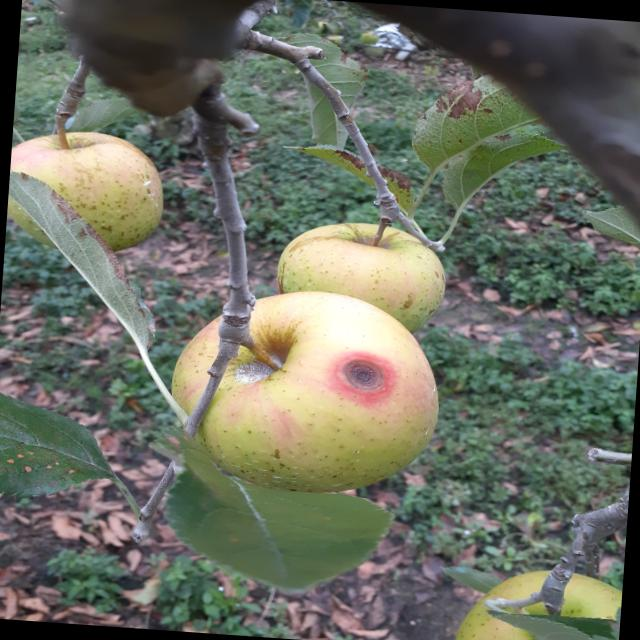rotten: (155, 281, 462, 511)
